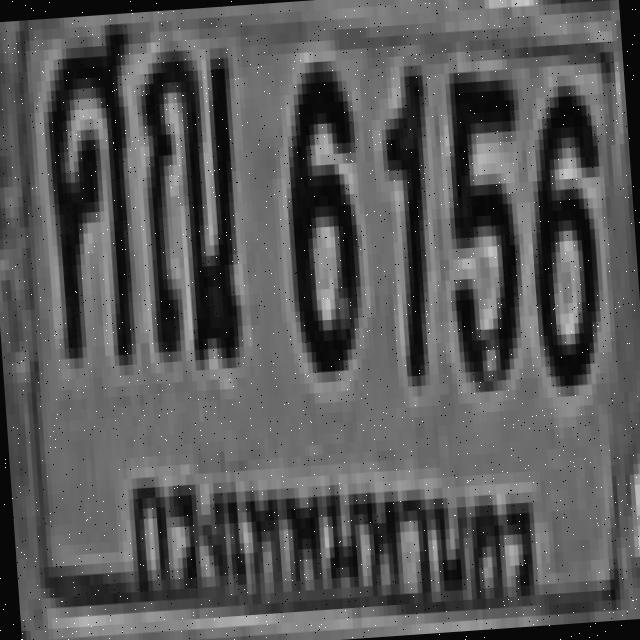1: (376, 60, 438, 372)
28NorNen: (133, 38, 245, 362)
47SorSala: (36, 13, 145, 359)
5: (434, 59, 528, 383)
6: (272, 49, 365, 363), (516, 74, 608, 378)
Bangkok: (117, 427, 556, 640)
